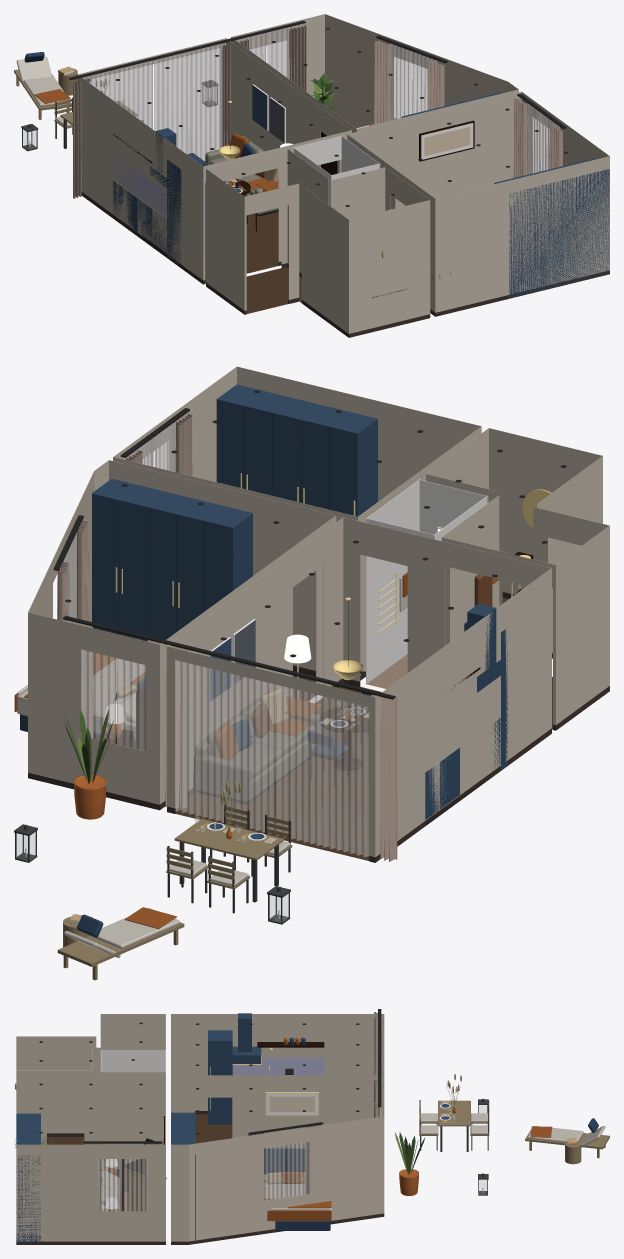
File: unit-0.B-lisboa.glb
The picture shows the model from 3 angles, top to bottom: view 1: azimuth 30°, elevation 25°; view 2: azimuth 150°, elevation 25°; view 3: azimuth 270°, elevation 25°; orthographic projection. The views are drawn at different scales.
Visible parts, largest first — view 1: int-wall, int-sheer, int-joineryTall, int-curtain, int-skirting, int-bathWall, int-joinery, int-floor, int-hallFloor, int-matteBlack, int-splash, int-outCushion (+9 smaller); view 2: int-wall, int-joineryTall, int-sheer, int-floor, int-curtain, int-bathWall, int-teak, int-sofa, int-joinery, int-outdoor, int-matteBlack, int-skirting (+12 smaller); view 3: int-wall, int-sheer, int-joineryTall, int-teak, int-headboard, int-bathWall, int-splash, int-skirting, int-floor, int-outCushion, int-curtain, int-joinery (+10 smaller).
Boxes of the visible parts, x1,y1,x2,y2 form: int-wall: [77, 14, 609, 333]; int-sheer: [84, 27, 559, 174]; int-joineryTall: [167, 92, 609, 298]; int-curtain: [73, 25, 563, 198]; int-skirting: [81, 192, 609, 337]; int-bathWall: [293, 135, 380, 206]; int-joinery: [113, 128, 176, 252]; int-floor: [205, 212, 278, 283]; int-hallFloor: [246, 267, 301, 313]; int-matteBlack: [69, 20, 566, 256]; int-splash: [113, 153, 166, 217]; int-outCushion: [16, 56, 72, 126]; int-wall: [28, 366, 609, 857]; int-joineryTall: [92, 384, 508, 770]; int-sheer: [57, 420, 369, 857]; int-floor: [175, 671, 381, 860]; int-curtain: [57, 414, 397, 861]; int-bathWall: [365, 479, 488, 684]; int-teak: [57, 806, 292, 980]; int-sofa: [193, 691, 321, 801]; int-joinery: [425, 604, 504, 819]; int-outdoor: [14, 804, 290, 924]; int-matteBlack: [53, 408, 497, 826]; int-skirting: [28, 591, 609, 862]; int-wall: [16, 1014, 384, 1241]; int-sheer: [98, 1020, 381, 1211]; int-joineryTall: [16, 1030, 232, 1244]; int-teak: [419, 1100, 609, 1164]; int-headboard: [120, 1148, 330, 1230]; int-bathWall: [100, 1050, 165, 1072]; int-splash: [232, 1057, 324, 1075]; int-skirting: [16, 1111, 384, 1244]; int-floor: [118, 1114, 232, 1210]; int-outCushion: [420, 1113, 605, 1147]; int-curtain: [85, 1012, 379, 1211]; int-joinery: [232, 1013, 261, 1063].
Bounding box in the file's own units: 7.77 × 2.82 × 14.48.
